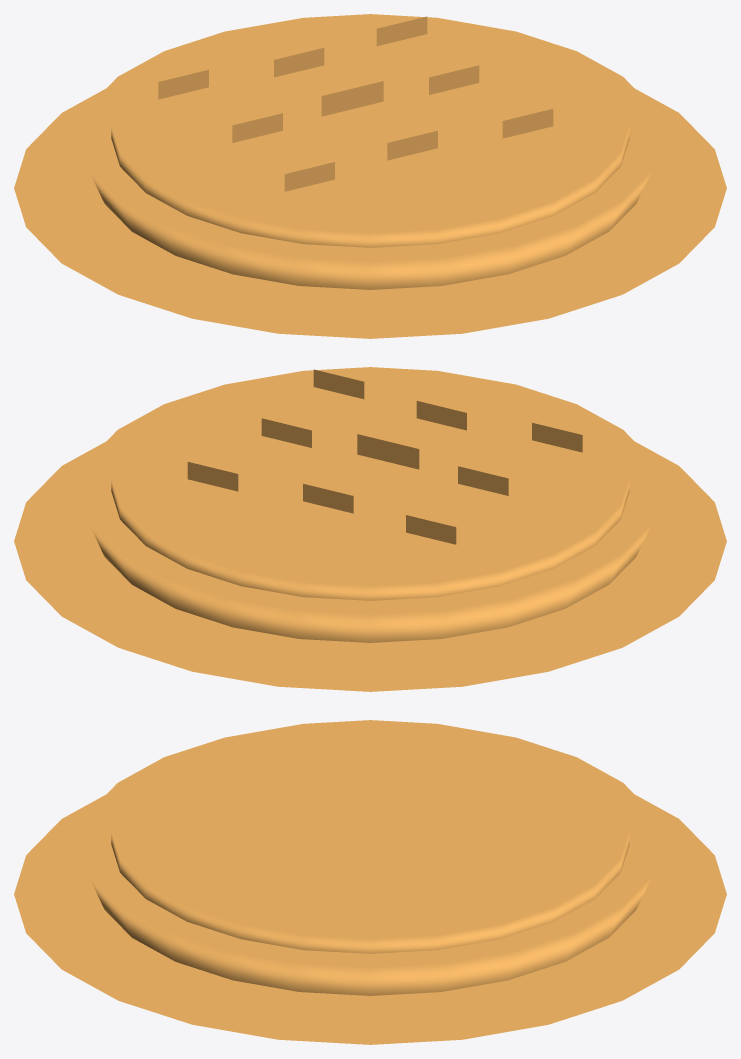
Rendered from default_food_3d.gltf.
3 renders of one model, top to bottom at view 1: azimuth 30°, elevation 25°; view 2: azimuth 150°, elevation 25°; view 3: azimuth 270°, elevation 25°, orthographic.
Visible parts, largest first — view 1: FoodDish3D; view 2: FoodDish3D; view 3: FoodDish3D.
Part boxes in pixels (bbox=[...]): FoodDish3D: bbox=[14, 14, 726, 338]; FoodDish3D: bbox=[14, 367, 726, 691]; FoodDish3D: bbox=[14, 720, 726, 1044].
Bounding box in the file's own units: 2.2 × 0.375 × 2.2.
